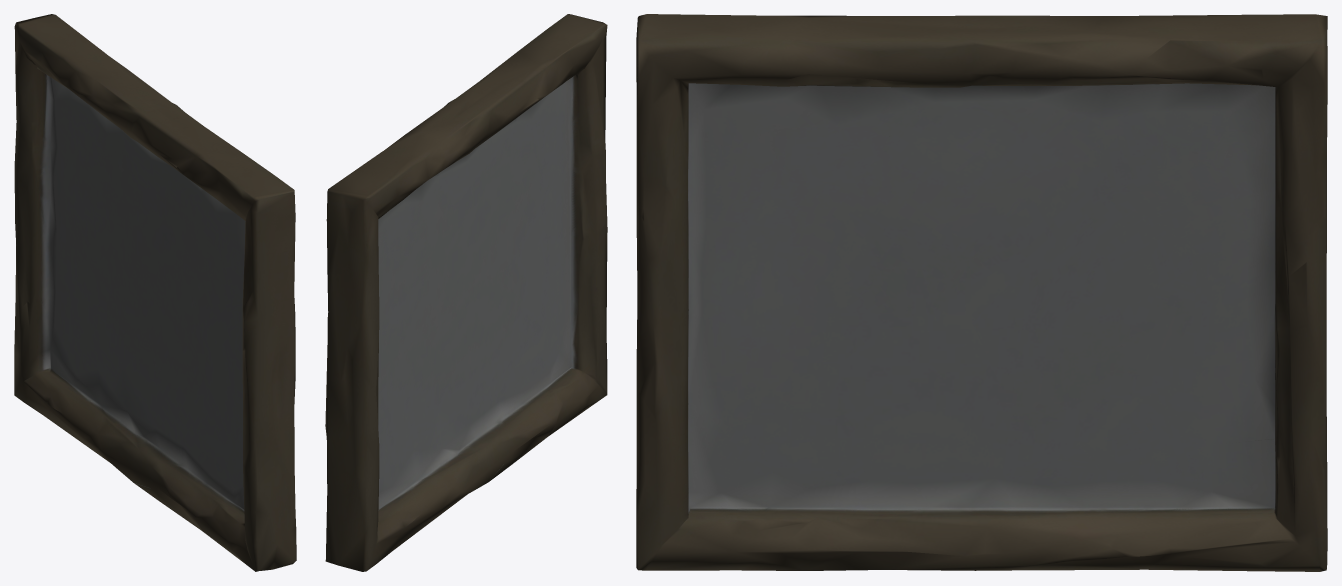
Rendered from wooden+picture+frame+3d+model.glb.
3 renders of one model, left to right at view 1: azimuth 30°, elevation 25°; view 2: azimuth 150°, elevation 25°; view 3: azimuth 270°, elevation 25°, orthographic. The views are drawn at different scales.
Parts seen in each view (by area): view 1: tripo_node_794846b1-a1a0-4ded-9371-7a7c82167350; view 2: tripo_node_794846b1-a1a0-4ded-9371-7a7c82167350; view 3: tripo_node_794846b1-a1a0-4ded-9371-7a7c82167350.
Part boxes in pixels (box(x1,y1,x2,y2)): tripo_node_794846b1-a1a0-4ded-9371-7a7c82167350: box(14, 14, 296, 571); tripo_node_794846b1-a1a0-4ded-9371-7a7c82167350: box(325, 14, 607, 571); tripo_node_794846b1-a1a0-4ded-9371-7a7c82167350: box(636, 14, 1327, 571).
Size of the model in its own units: 0.1285 by 0.8502 by 1.
1 material, 1 textured.
